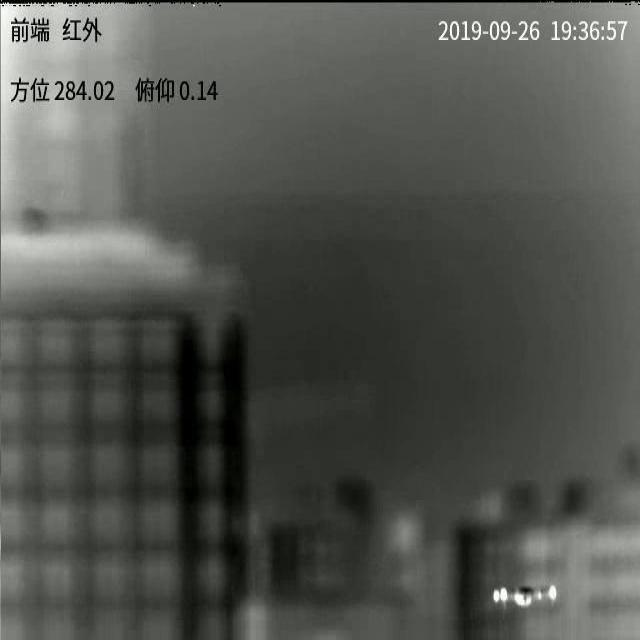drone: (491, 584, 557, 609)
